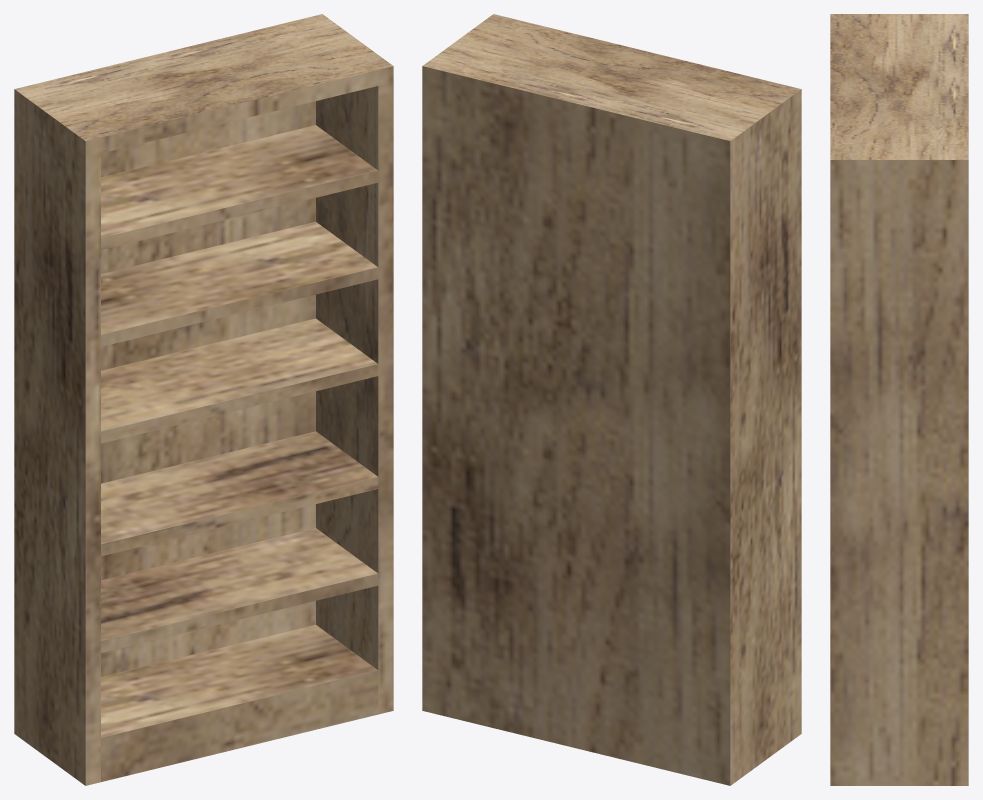
File: Bookshelf01.fbx
The picture shows the model from 3 angles, left to right: view 1: azimuth 30°, elevation 25°; view 2: azimuth 150°, elevation 25°; view 3: azimuth 270°, elevation 25°; orthographic projection. The views are drawn at different scales.
Visible parts, largest first — view 1: Bookshelf01; view 2: Bookshelf01; view 3: Bookshelf01.
Part boxes in pixels (x1=…): Bookshelf01: x1=14, y1=14, x2=393, y2=785; Bookshelf01: x1=422, y1=14, x2=801, y2=785; Bookshelf01: x1=830, y1=14, x2=968, y2=785.
Size of the model in its own units: 200 by 400 by 80.
